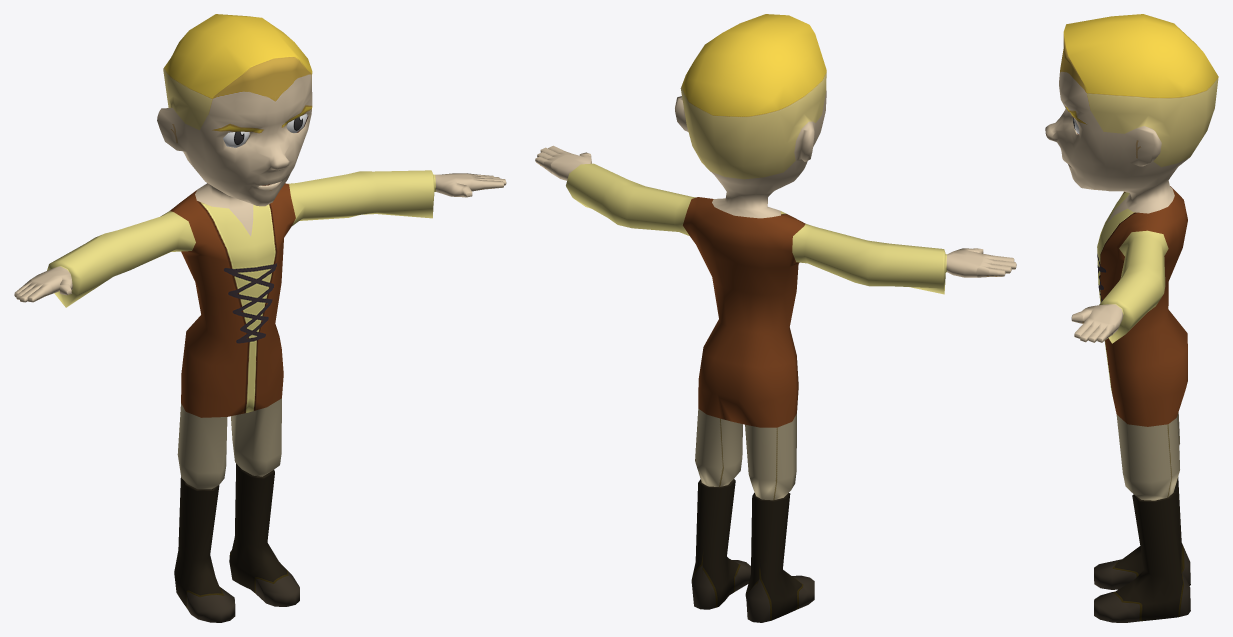
File: Farmer.fbx
The picture shows the model from 3 angles, left to right: view 1: azimuth 30°, elevation 25°; view 2: azimuth 150°, elevation 25°; view 3: azimuth 270°, elevation 25°; orthographic projection. The views are drawn at different scales.
Parts seen in each view (by area): view 1: Farmer; view 2: Farmer; view 3: Farmer.
Part boxes in pixels (x1,y1,x2,y2): Farmer: [14, 14, 506, 622]; Farmer: [535, 14, 1016, 622]; Farmer: [1045, 14, 1218, 622].
Size of the model in its own units: 2.38 by 0.7371 by 2.71.
Materials: 1 (1 with a texture image).
